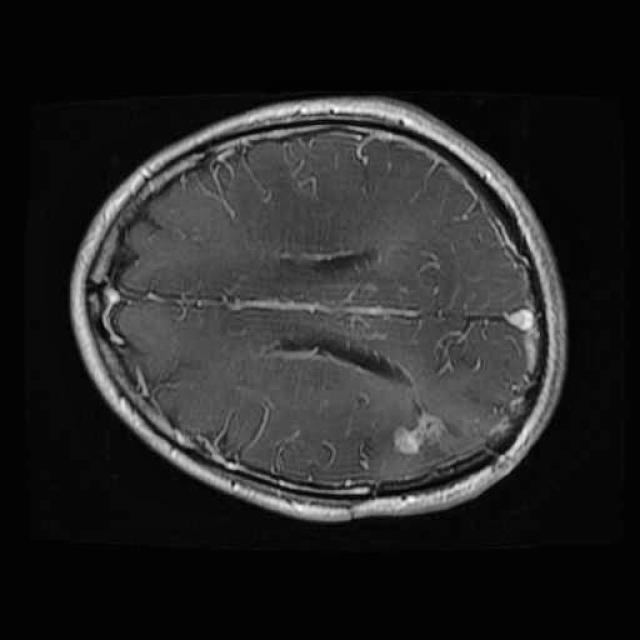Tumor: (385, 405, 461, 461)
